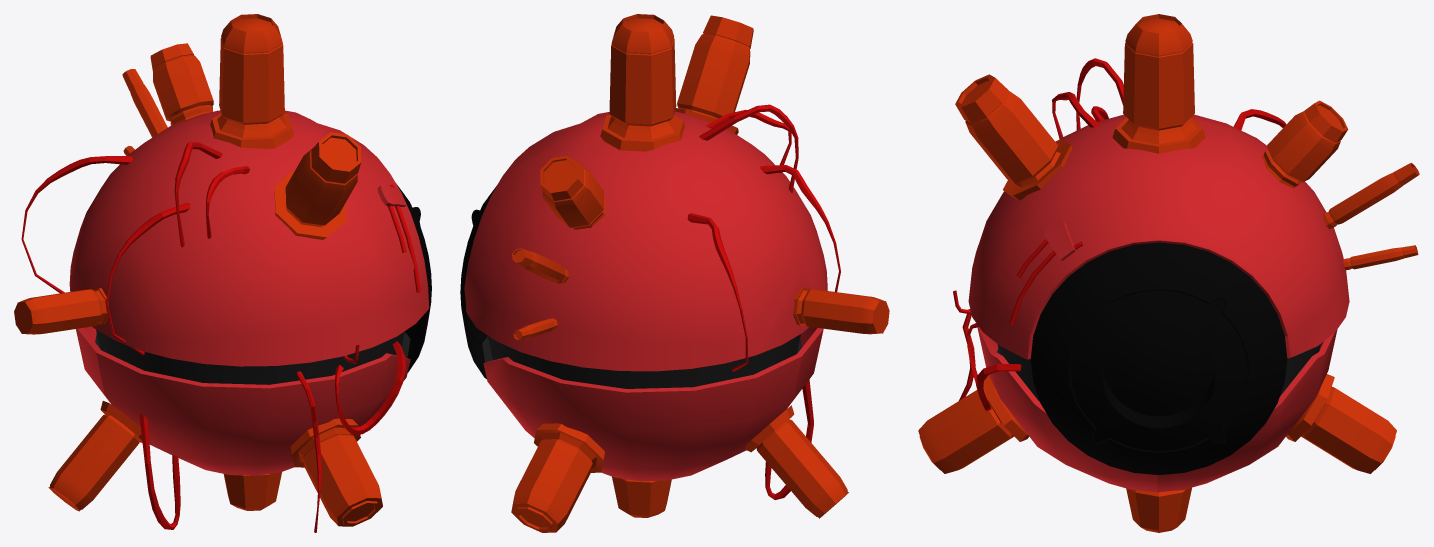
The picture shows the model from 3 angles, left to right: view 1: azimuth 30°, elevation 25°; view 2: azimuth 150°, elevation 25°; view 3: azimuth 270°, elevation 25°; orthographic projection. The views are drawn at different scales.
Visible parts, largest first — view 1: 上外壳副本, 球体, 上外壳副本.001, 上外壳副本.003, 上外壳副本.004, 球体.010, 上外壳副本.009, 上外壳副本.008, 上外壳副本.007, 上外壳副本.002, NURBS 路径.015, 眼球 (+8 smaller); view 2: 上外壳副本, 球体, 上外壳副本.001, 上外壳副本.004, 上外壳副本.003, 球体.010, 上外壳副本.009, 上外壳副本.007, 上外壳副本.008, 上外壳副本.002, 眼球, 上外壳副本.005 (+6 smaller); view 3: 眼球, 上外壳副本, 上外壳副本.004, 球体, 上外壳副本.001, 上外壳副本.003, 上外壳副本.008, 上外壳副本.002, 上外壳副本.005, 球体.010, 上外壳副本.006, NURBS 路径.008 (+4 smaller).
Part boxes in pixels (x1,y1,x2,y2): 上外壳副本: [69, 110, 429, 366]; 球体: [76, 326, 410, 475]; 上外壳副本.001: [210, 14, 293, 148]; 上外壳副本.003: [274, 132, 361, 239]; 上外壳副本.004: [290, 418, 382, 526]; 球体.010: [95, 329, 410, 384]; 上外壳副本.009: [48, 401, 142, 511]; 上外壳副本.008: [150, 43, 213, 125]; 上外壳副本.007: [14, 288, 108, 334]; 上外壳副本.002: [223, 472, 281, 510]; NURBS 路径.015: [139, 413, 180, 529]; 眼球: [396, 183, 431, 372]; 上外壳副本: [464, 111, 827, 371]; 球体: [483, 327, 823, 481]; 上外壳副本.001: [600, 14, 685, 151]; 上外壳副本.004: [511, 423, 604, 532]; 上外壳副本.003: [675, 15, 753, 134]; 球体.010: [482, 334, 801, 388]; 上外壳副本.009: [745, 405, 848, 518]; 上外壳副本.007: [793, 288, 889, 334]; 上外壳副本.008: [540, 155, 605, 229]; 上外壳副本.002: [612, 476, 671, 517]; 眼球: [460, 186, 496, 379]; 上外壳副本.005: [512, 248, 568, 283]; 眼球: [1030, 242, 1287, 474]; 上外壳副本: [968, 114, 1349, 359]; 上外壳副本.004: [918, 374, 1396, 473]; 球体: [977, 326, 1337, 492]; 上外壳副本.001: [1112, 14, 1205, 153]; 上外壳副本.003: [955, 74, 1072, 200]; 上外壳副本.008: [1261, 100, 1348, 187]; 上外壳副本.002: [1126, 487, 1191, 532]; 上外壳副本.005: [1323, 162, 1419, 229]; 球体.010: [997, 344, 1320, 401]; 上外壳副本.006: [1343, 245, 1418, 269]; NURBS 路径.008: [967, 323, 1021, 411].
Size of the model in its own units: 197 by 237 by 215.
